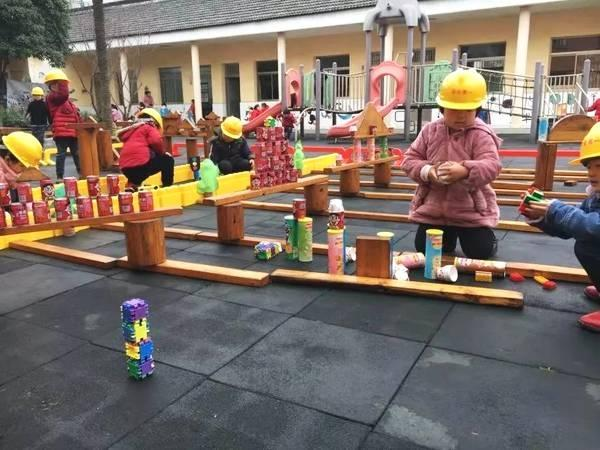helmet: (436, 68, 490, 112), (2, 130, 48, 169), (579, 120, 600, 165), (219, 115, 246, 142), (42, 67, 71, 83), (134, 107, 160, 119), (29, 87, 46, 97)
no_wear: (420, 123, 497, 228), (119, 123, 157, 170), (49, 102, 82, 140)
